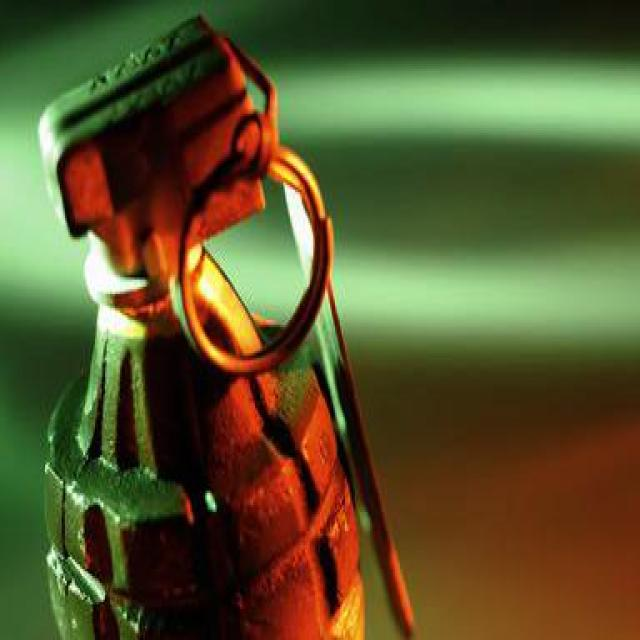grenade: (38, 13, 419, 639)
